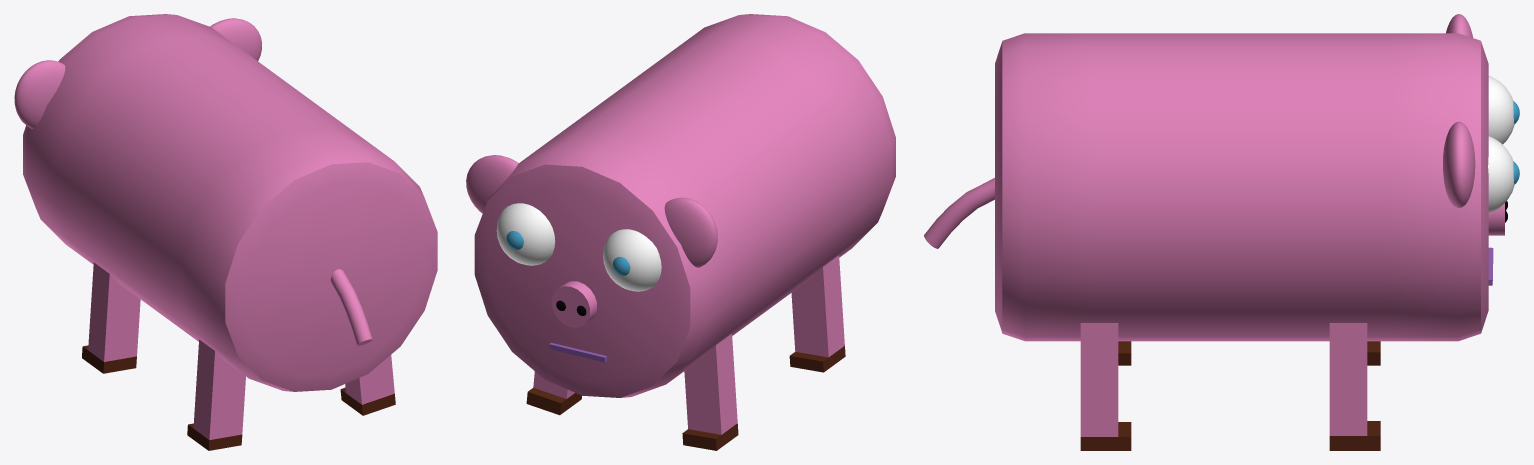
Rendered from pig.fbx.
The picture shows the model from 3 angles, left to right: view 1: azimuth 30°, elevation 25°; view 2: azimuth 150°, elevation 25°; view 3: azimuth 270°, elevation 25°; orthographic projection. The views are drawn at different scales.
Parts seen in each view (by area): view 1: Cylinder001, Box415, Box417, Sphere144, Box418, Cylinder003, Sphere143; view 2: Cylinder001, Box415, Box417, Sphere139, Sphere137, Sphere144, Sphere143, Cylinder002, Box416, Box419; view 3: Cylinder001, Box416, Box418, Sphere143, Cylinder003, Sphere137, Sphere139.
Boxes of the visible parts, <box> form: Cylinder001: <box>23,14,437,391</box>; Box415: <box>82,262,140,373</box>; Box417: <box>187,339,245,450</box>; Sphere144: <box>14,60,65,128</box>; Box418: <box>340,355,395,415</box>; Cylinder003: <box>330,269,372,345</box>; Sphere143: <box>210,18,261,60</box>; Cylinder001: <box>474,14,895,397</box>; Box415: <box>682,333,738,450</box>; Box417: <box>789,255,845,372</box>; Sphere139: <box>603,229,661,291</box>; Sphere137: <box>496,203,555,265</box>; Sphere144: <box>664,197,717,267</box>; Sphere143: <box>466,155,518,213</box>; Cylinder002: <box>551,281,596,327</box>; Box416: <box>526,371,581,415</box>; Box419: <box>549,342,606,362</box>; Cylinder001: <box>995,33,1488,341</box>; Box416: <box>1329,323,1380,450</box>; Box418: <box>1080,323,1131,450</box>; Sphere143: <box>1443,121,1475,207</box>; Cylinder003: <box>924,178,994,248</box>; Sphere137: <box>1488,136,1514,213</box>; Sphere139: <box>1488,76,1514,144</box>.
Size of the model in its own units: 7.47 by 8.62 by 13.24.
